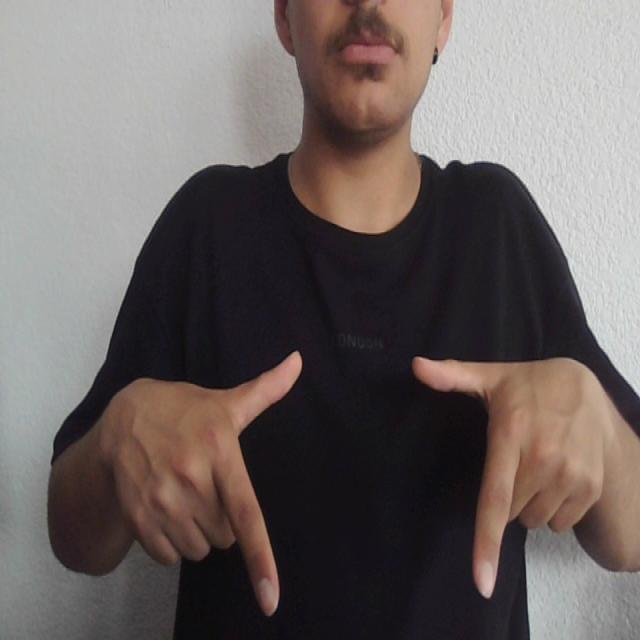Nerede: (201, 346, 515, 621)
